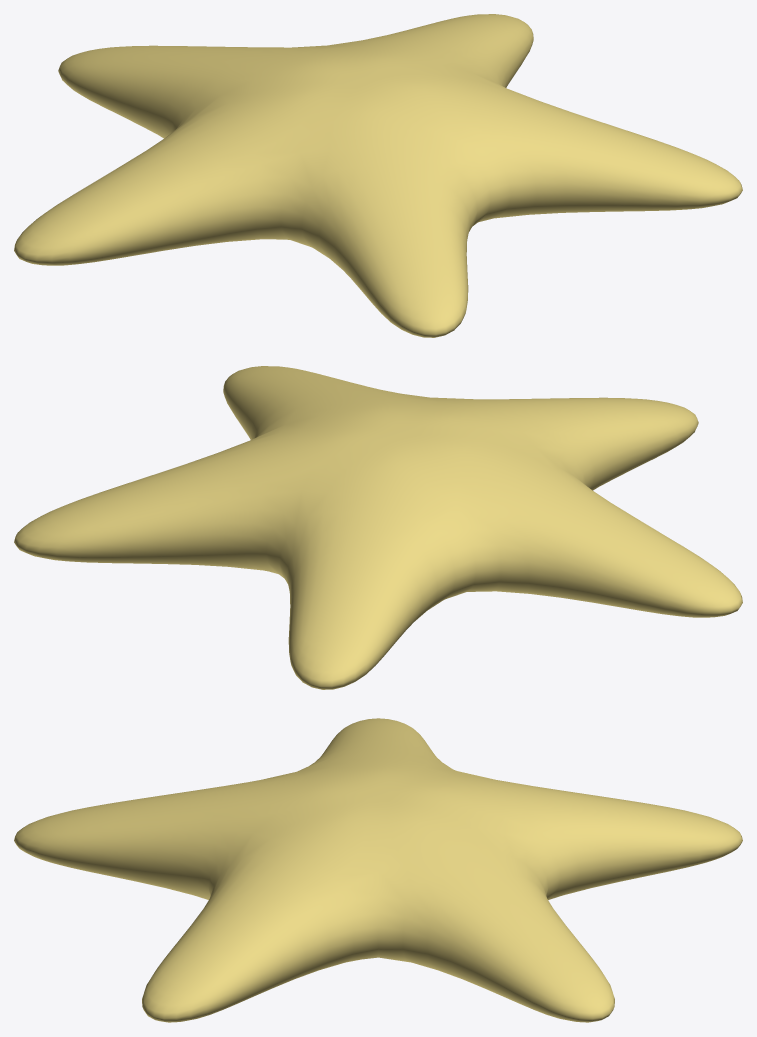
The model's file is Starfish.fbx.
3 renders of one model, top to bottom at view 1: azimuth 30°, elevation 25°; view 2: azimuth 150°, elevation 25°; view 3: azimuth 270°, elevation 25°, orthographic. The views are drawn at different scales.
Parts seen in each view (by area): view 1: Starfish; view 2: Starfish; view 3: Starfish.
Part boxes in pixels (x1,y1,x2,y2): Starfish: [14, 14, 742, 337]; Starfish: [14, 366, 742, 689]; Starfish: [14, 718, 742, 1022].
Bounding box in the file's own units: 33.17 × 6 × 34.74.
